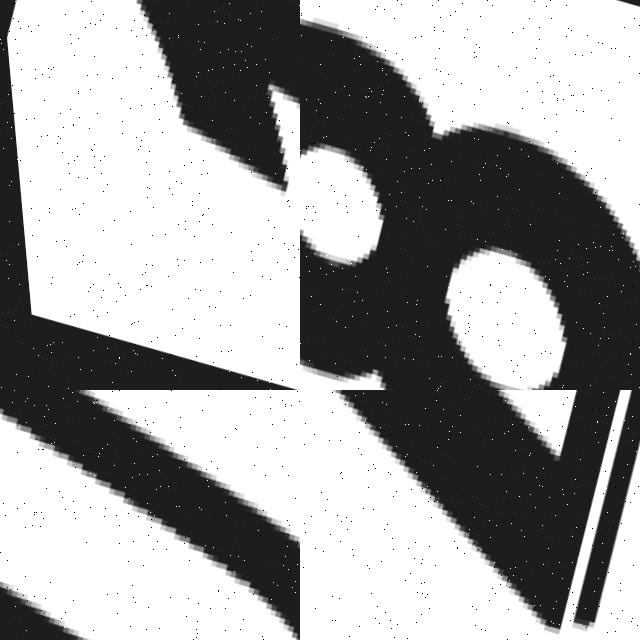1: (12, 0, 300, 314)
8: (300, 0, 640, 390)
U: (0, 390, 300, 640)
Z: (300, 390, 640, 640)
